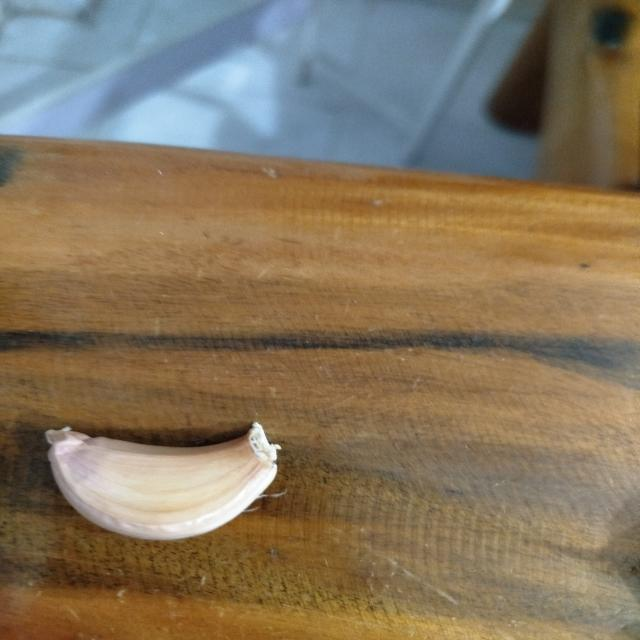garlic: (44, 421, 286, 541)
